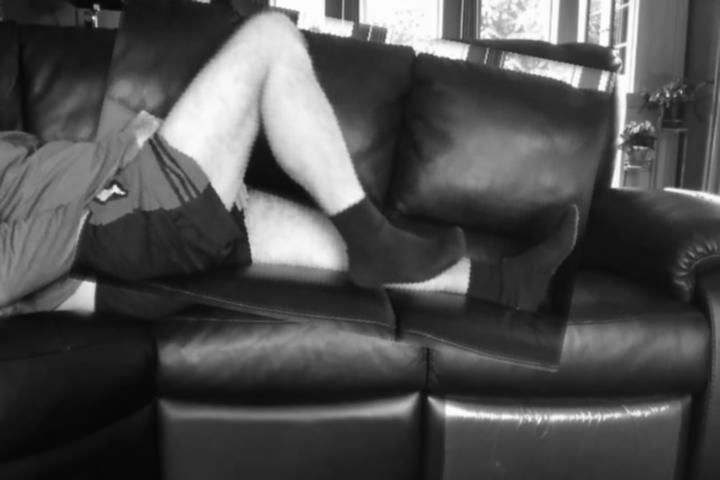lowerbody: (82, 1, 604, 351)
